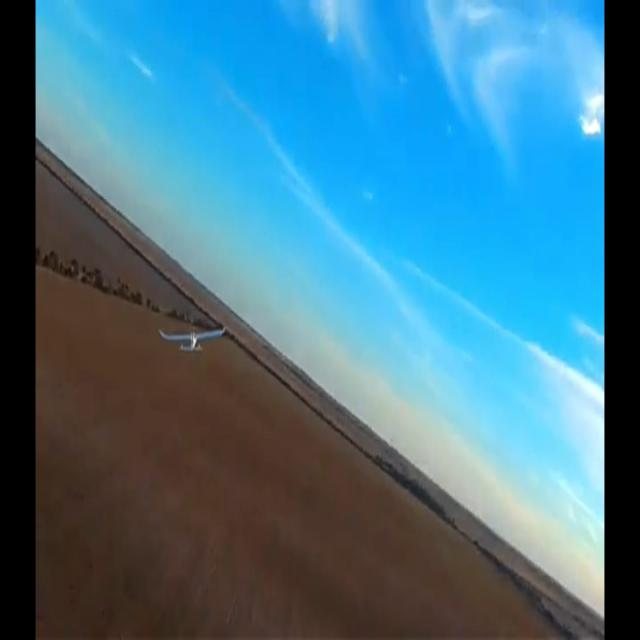iha: (190, 324, 195, 355)
